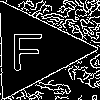F: (9, 24, 44, 71)
